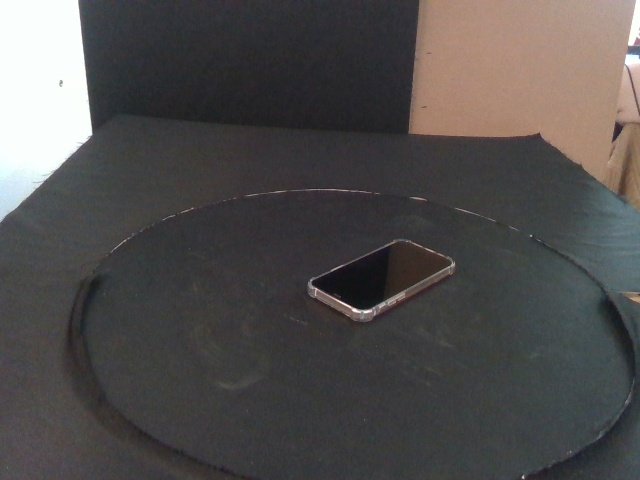phone: (306, 238, 455, 324)
